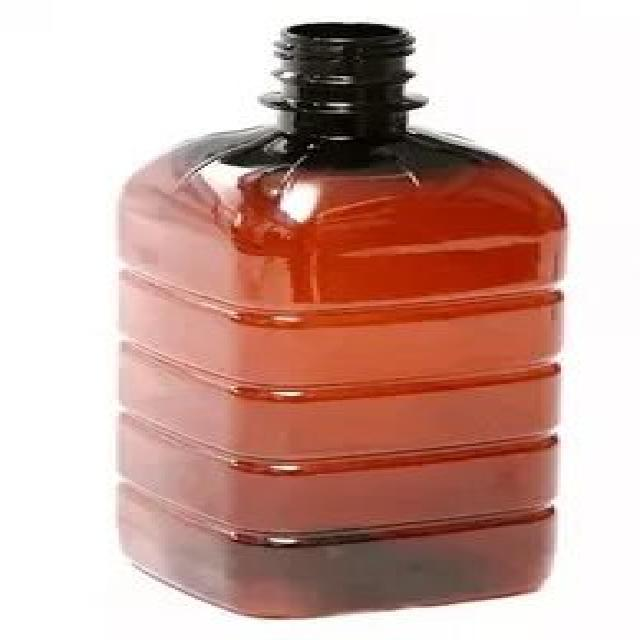brown: (126, 20, 566, 622)
